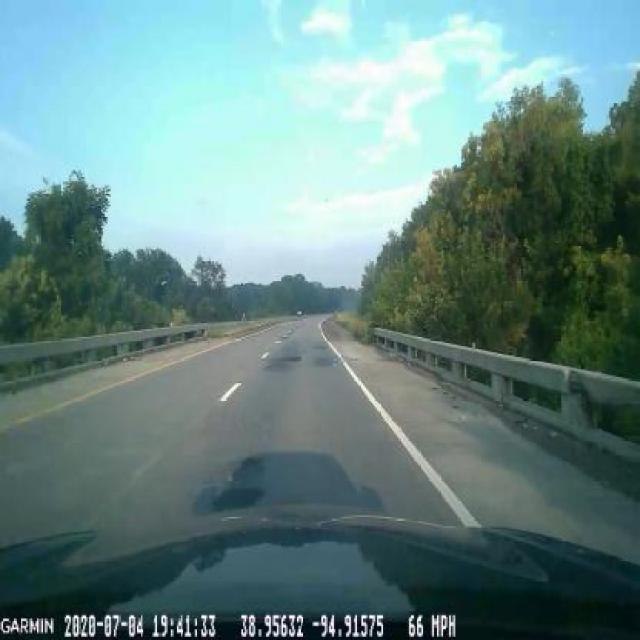Pothole: (206, 482, 266, 520), (223, 452, 277, 492)
